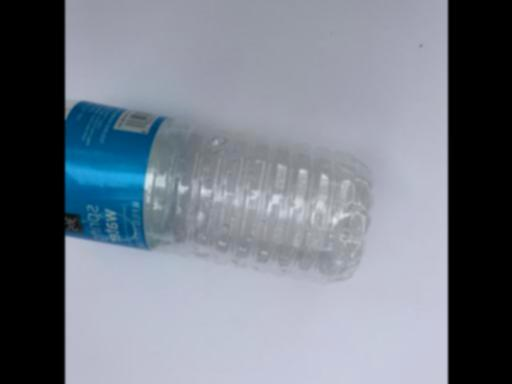PET: (65, 97, 375, 285)
plastic: (65, 97, 375, 285)
water: (65, 97, 375, 285)
